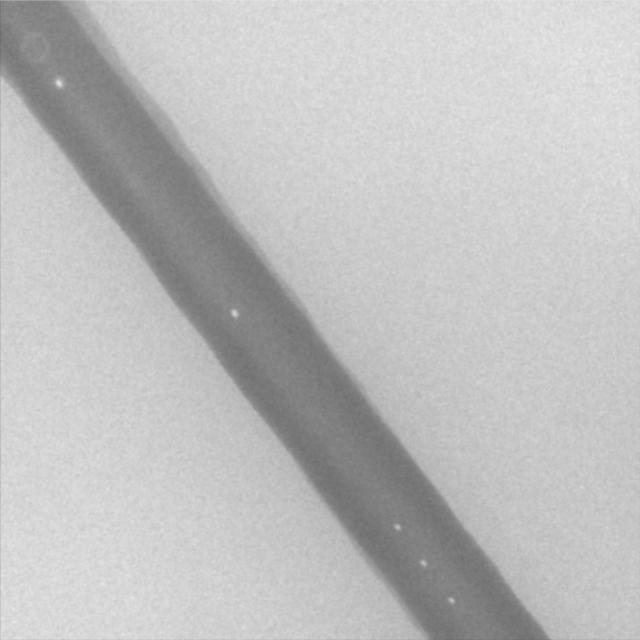air hole: (228, 306, 239, 320), (391, 521, 402, 532), (418, 556, 428, 568), (446, 595, 455, 606), (55, 76, 63, 88)
hollow bead: (17, 30, 50, 66)
